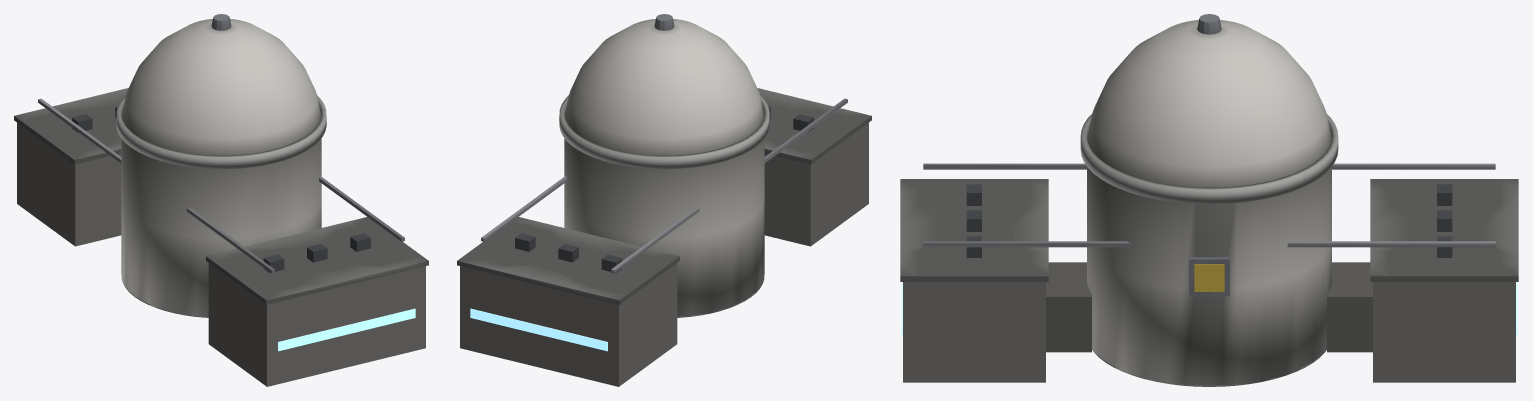
Rendered from 03_reactor_block.glb.
3 views of the same model, side by side, from view 1: azimuth 30°, elevation 25°; view 2: azimuth 150°, elevation 25°; view 3: azimuth 270°, elevation 25° (orthographic). The views are drawn at different scales.
Visible parts, largest first — view 1: reactor_block_concrete, reactor_block_concretedark, reactor_block_steel, reactor_block_steeldark, reactor_block_glass_nocol; view 2: reactor_block_concrete, reactor_block_concretedark, reactor_block_steel, reactor_block_steeldark, reactor_block_glass_nocol; view 3: reactor_block_concrete, reactor_block_concretedark, reactor_block_steel, reactor_block_steeldark, reactor_block_warning_nocol.
Boxes of the visible parts, x1,y1,x2,y2 form: reactor_block_concrete: (17,19,425,386); reactor_block_concretedark: (14,88,428,317); reactor_block_steel: (38,98,404,273); reactor_block_steeldark: (72,14,370,272); reactor_block_glass_nocol: (278,308,415,351); reactor_block_concrete: (460,19,868,386); reactor_block_concretedark: (457,88,871,317); reactor_block_steel: (481,98,847,273); reactor_block_steeldark: (515,14,813,272); reactor_block_glass_nocol: (470,308,607,351); reactor_block_concrete: (903,20,1515,386); reactor_block_concretedark: (900,114,1518,386); reactor_block_steel: (923,163,1495,247); reactor_block_steeldark: (966,14,1452,296); reactor_block_warning_nocol: (1194,264,1224,291).
Bounding box in the file's own units: 57.69 × 78.3 × 139.
